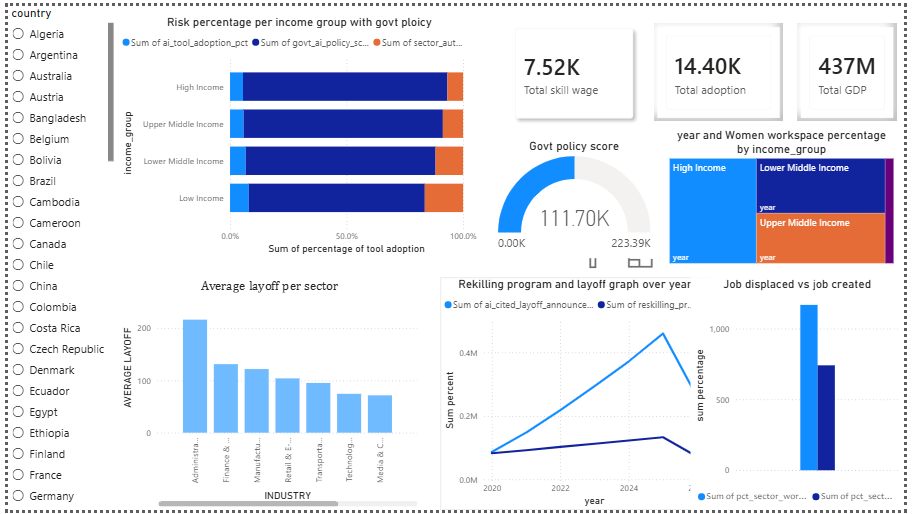

The dashboard page shown, as its layout file describes it:
{"tool":"powerbi","page":{"name":"Page 1","canvas":[1280,720],"ordinal":0},"visuals":[{"type":"listSlicer","fields":{"Values":["ai_workforce_displacement_global_2020_2026.country"]},"box":[0,0,156.7,720],"z":0},{"type":"cardVisual","title":"Total skill wage ","fields":{"Data":["Sum(ai_workforce_displacement_global_2020_2026.ai_skill_wage_premium_pct)"]},"box":[695,2.5,227.5,187.5],"z":1000},{"type":"cardVisual","fields":{"Data":["Sum(ai_workforce_displacement_global_2020_2026.ai_adoption_index)"]},"box":[922.5,25,185,140],"z":2000},{"type":"lineStackedColumnComboChart","title":"Average layoff per sector","fields":{"Category":["ai_workforce_displacement_global_2020_2026.industry_sector"],"Y":["Avg(ai_workforce_displacement_global_2020_2026.ai_cited_layoff_announcements)"]},"box":[157.5,387.5,432.5,332.5],"z":3000},{"type":"cardVisual","fields":{"Data":["Sum(ai_workforce_displacement_global_2020_2026.gdp_per_capita_usd)"]},"box":[1127.5,25,142.5,140],"z":4000},{"type":"lineChart","title":"Rekilling program and layoff graph over year ","fields":{"Category":["ai_workforce_displacement_global_2020_2026.year"],"Y":["Sum(ai_workforce_displacement_global_2020_2026.ai_cited_layoff_announcements)","Sum(ai_workforce_displacement_global_2020_2026.reskilling_programs_count)"]},"box":[617.5,387.5,385,332.5],"z":5000},{"type":"clusteredColumnChart","title":"Job displaced vs job created ","fields":{"Y":["Sum(ai_workforce_displacement_global_2020_2026.pct_sector_workforce_displaced)","Sum(ai_workforce_displacement_global_2020_2026.pct_sector_workforce_new_roles_created)"]},"box":[975,387.5,305,332.5],"z":6000},{"type":"hundredPercentStackedBarChart","title":"Risk percentage per income group with govt ploicy","fields":{"Category":["ai_workforce_displacement_global_2020_2026.income_group"],"Y":["Sum(ai_workforce_displacement_global_2020_2026.ai_tool_adoption_pct)","Sum(ai_workforce_displacement_global_2020_2026.govt_ai_policy_score_1_to_10)","Sum(ai_workforce_displacement_global_2020_2026.sector_automation_risk_score)"]},"box":[157.5,12.5,517.5,347.5],"z":7000},{"type":"gauge","fields":{"Y":["Sum(ai_workforce_displacement_global_2020_2026.govt_ai_policy_score_1_to_10)"]},"box":[695,191,228,170],"z":7001},{"type":"treemap","fields":{"Group":["ai_workforce_displacement_global_2020_2026.income_group"],"Values":["Sum(ai_workforce_displacement_global_2020_2026.year)","Sum(ai_workforce_displacement_global_2020_2026.pct_workforce_female)"]},"box":[940,175,330,197.5],"z":7002}]}

Visuals, with their boxes in screenshot pixels (x1, y1, x2, y2), scaled from the page's 1280x720 canvas onto the 913x514 screenshot:
listSlicer - ai_workforce_displacement_global_2020_2026.country: <box>0,0,112,513</box>
"Total skill wage " cardVisual: <box>496,2,658,136</box>
cardVisual - Sum(ai_workforce_displacement_global_2020_2026.ai_adoption_index): <box>658,18,790,118</box>
"Average layoff per sector" lineStackedColumnComboChart: <box>112,277,421,513</box>
cardVisual - Sum(ai_workforce_displacement_global_2020_2026.gdp_per_capita_usd): <box>804,18,906,118</box>
"Rekilling program and layoff graph over year " lineChart: <box>440,277,715,513</box>
"Job displaced vs job created " clusteredColumnChart: <box>695,277,912,513</box>
"Risk percentage per income group with govt ploicy" hundredPercentStackedBarChart: <box>112,9,481,257</box>
gauge - Sum(ai_workforce_displacement_global_2020_2026.govt_ai_policy_score_1_to_10): <box>496,136,658,258</box>
treemap - ai_workforce_displacement_global_2020_2026.income_group x Sum(ai_workforce_displacement_global_2020_2026.year): <box>670,125,906,266</box>
